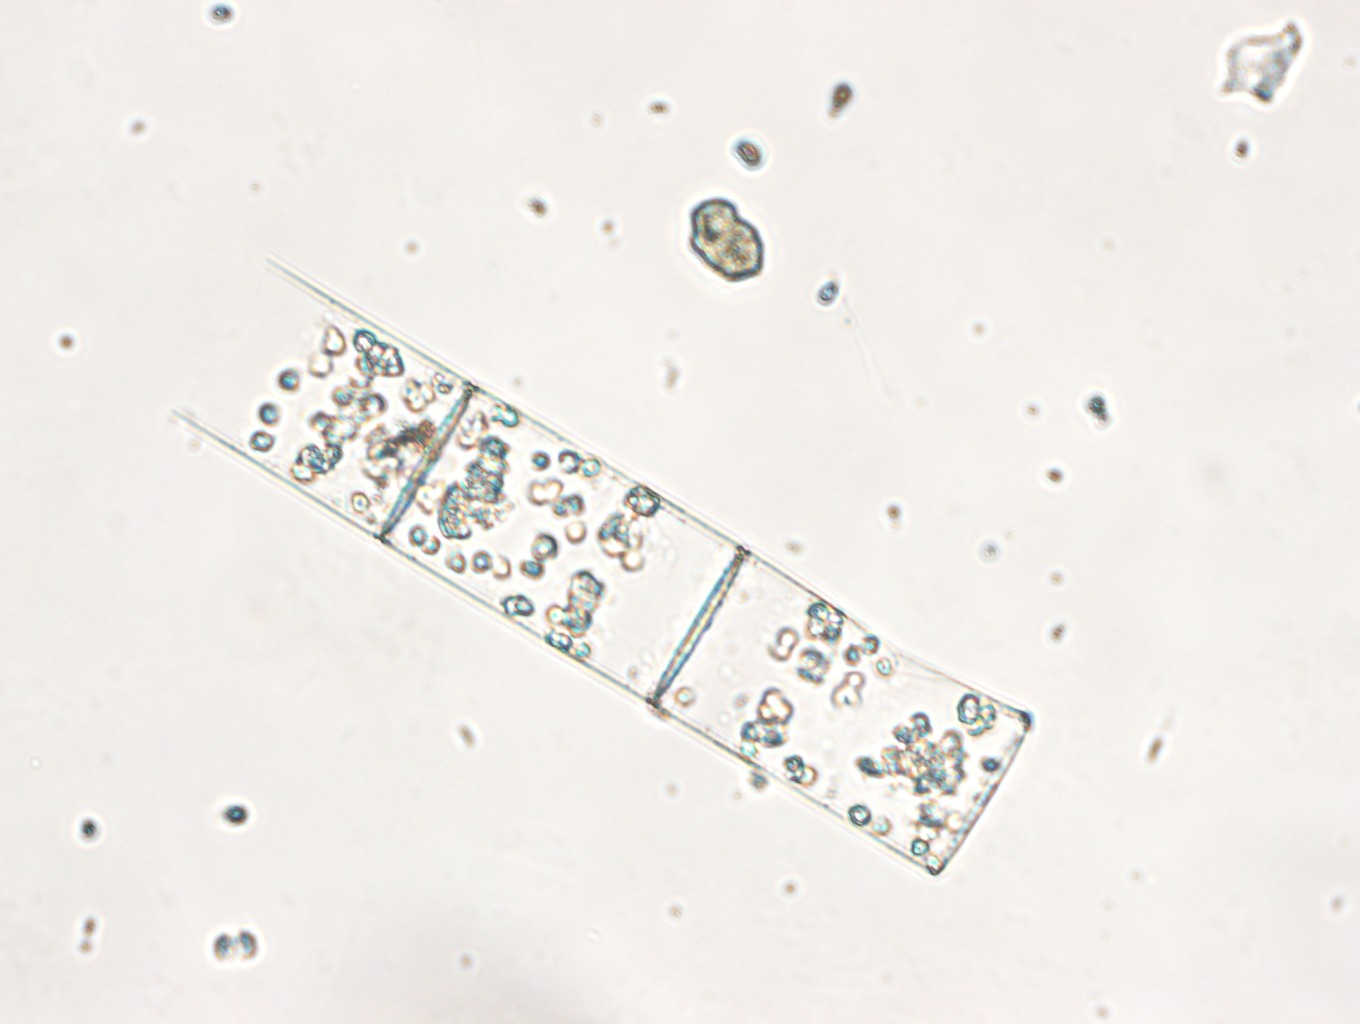guinardia flaccida: (163, 234, 1042, 883)
